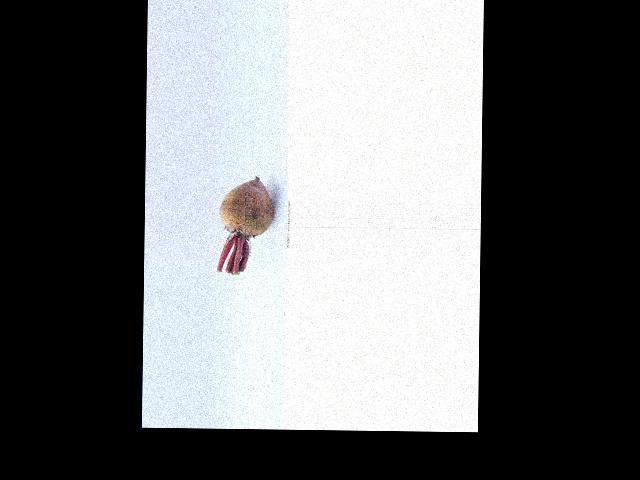beet: (217, 177, 273, 273)
